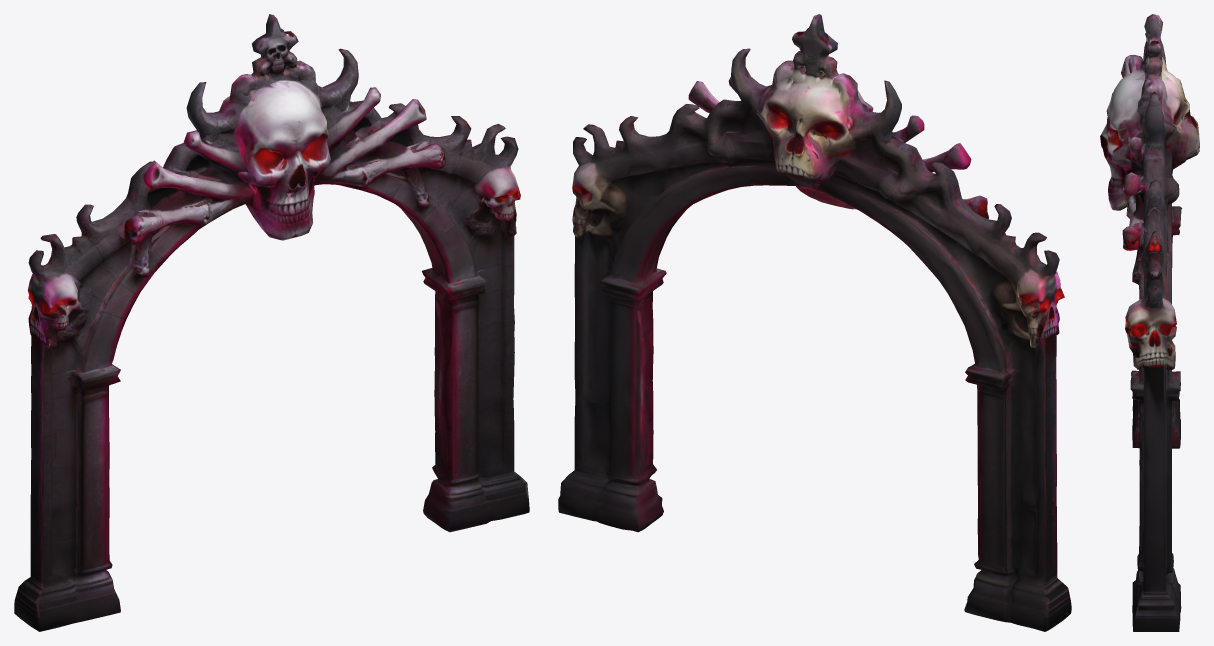
The model's file is skullwall.glb.
The picture shows the model from 3 angles, left to right: view 1: azimuth 30°, elevation 25°; view 2: azimuth 150°, elevation 25°; view 3: azimuth 270°, elevation 25°; orthographic projection. The views are drawn at different scales.
Bounding box in the file's own units: 1.88 × 2.01 × 0.3577.
1 material, 1 textured.
